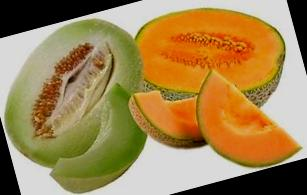Melon Ripe: (130, 0, 295, 112), (187, 51, 306, 180)
